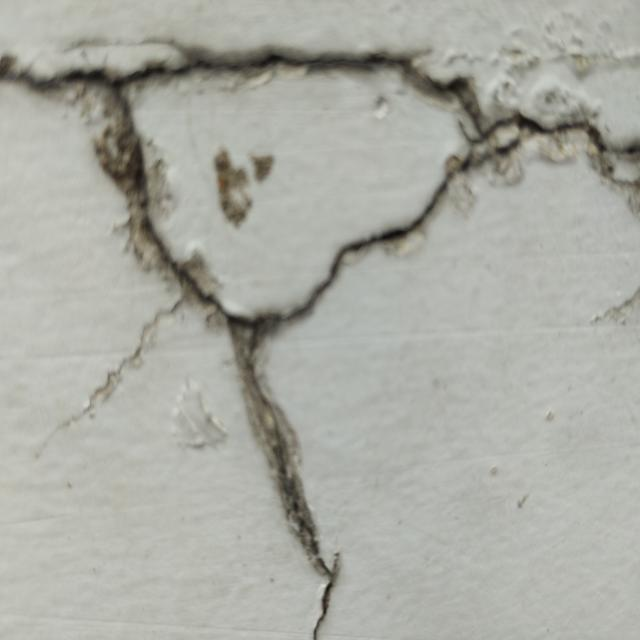branched cracks: (0, 41, 639, 639)
